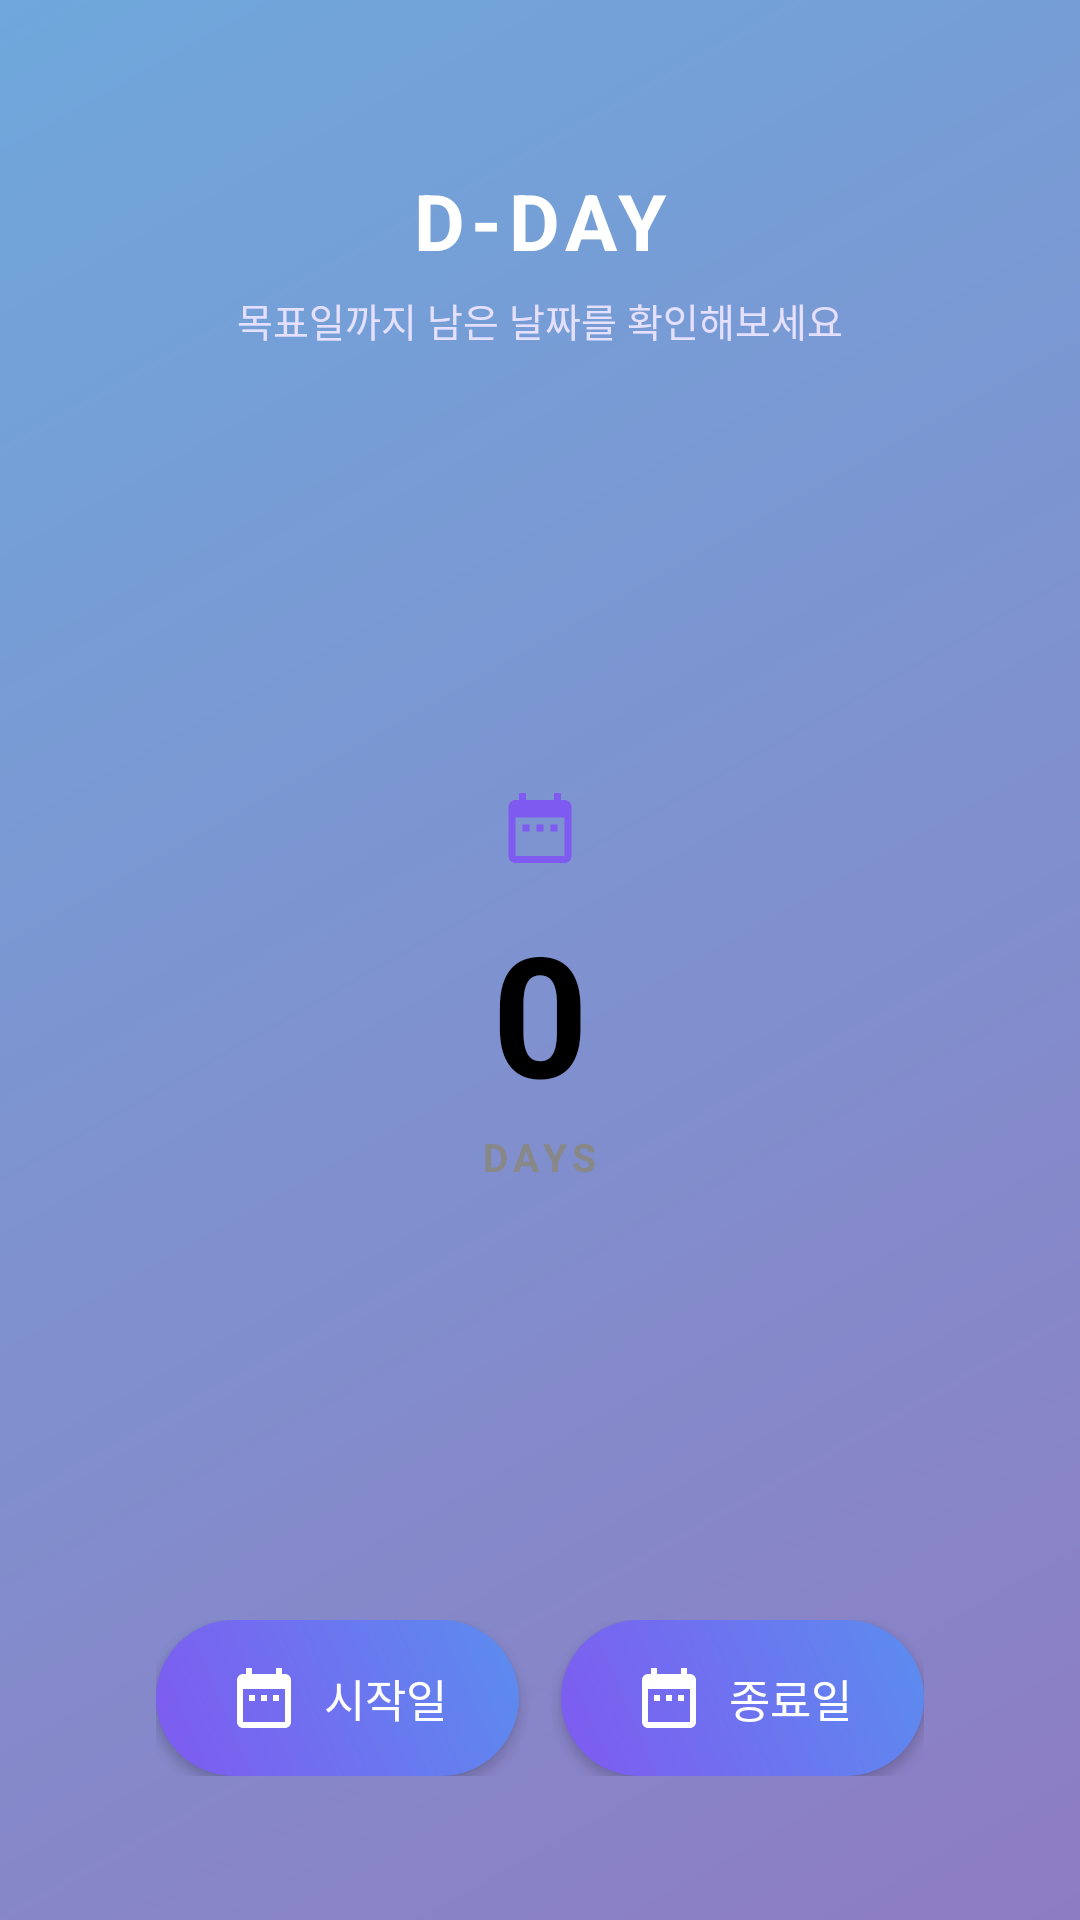

Screen size 1080 × 1920. Icon name, then its box in pixels as detection(x1, y1, x2, y2):
calendar: detection(508, 793, 572, 863)
